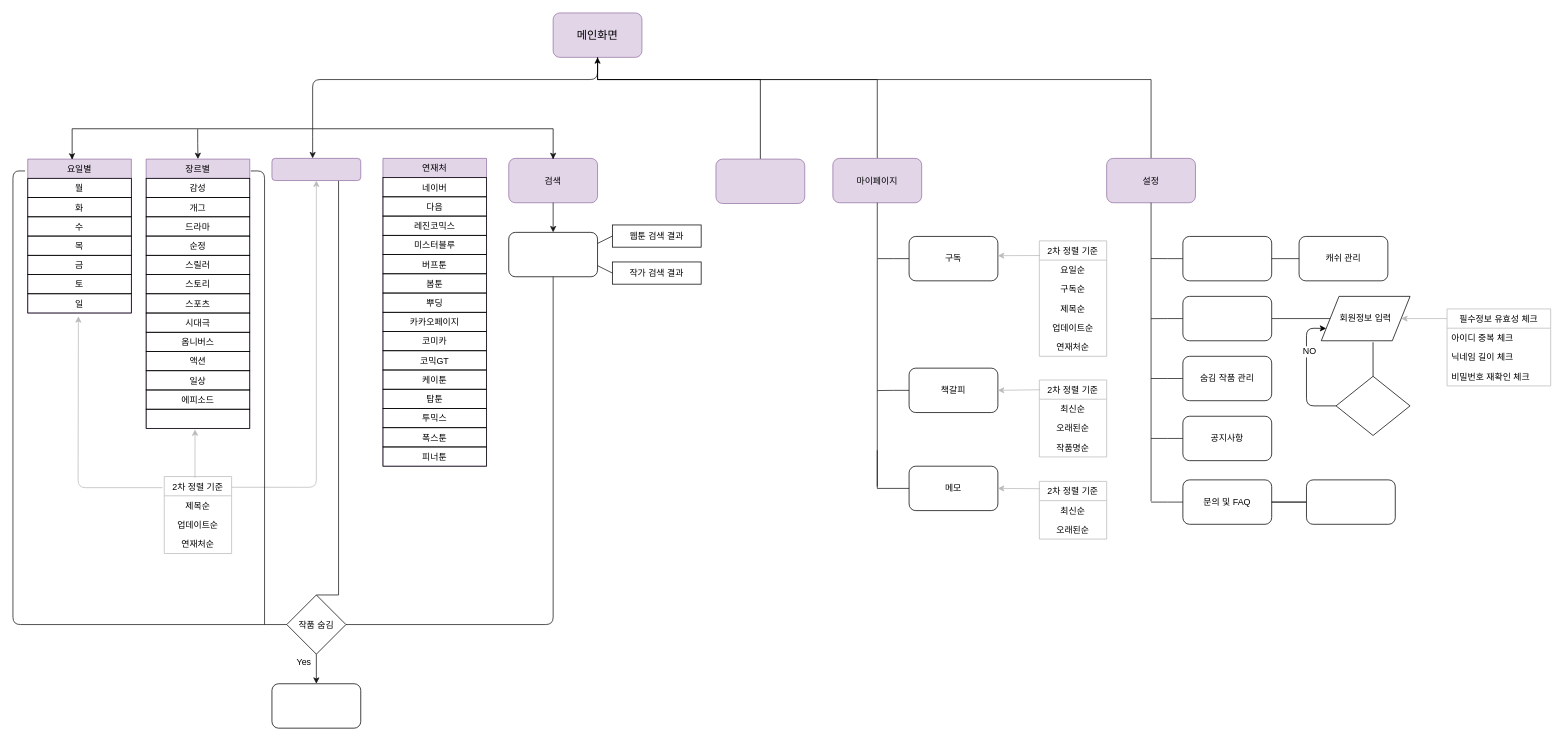
Image size: 1564x741. Some labels were removed from this diagram. Each missing label, with the centre of its shape:
"E-MAIL 작성 폼" belongs at [1350,501].
"검색 결과" belongs at [553,254].
"데이터 유효성 체크" belongs at [1372,405].
"완결" belongs at [316,169].
"추천페이지" belongs at [760,181].
"통합 로그인 관리" belongs at [1227,258].
"판타지" belongs at [197,418].
"프로필 수정" belongs at [1227,318].
"확장 검색 결과" belongs at [316,705].
